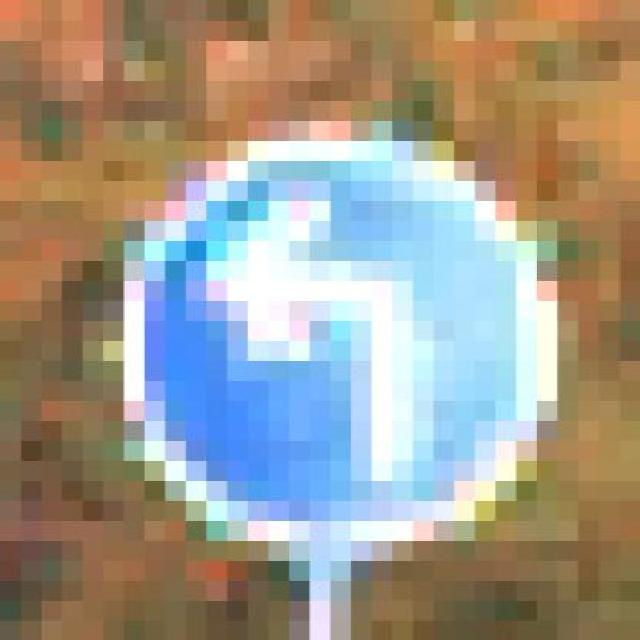Turn left ahead: (106, 121, 580, 562)
